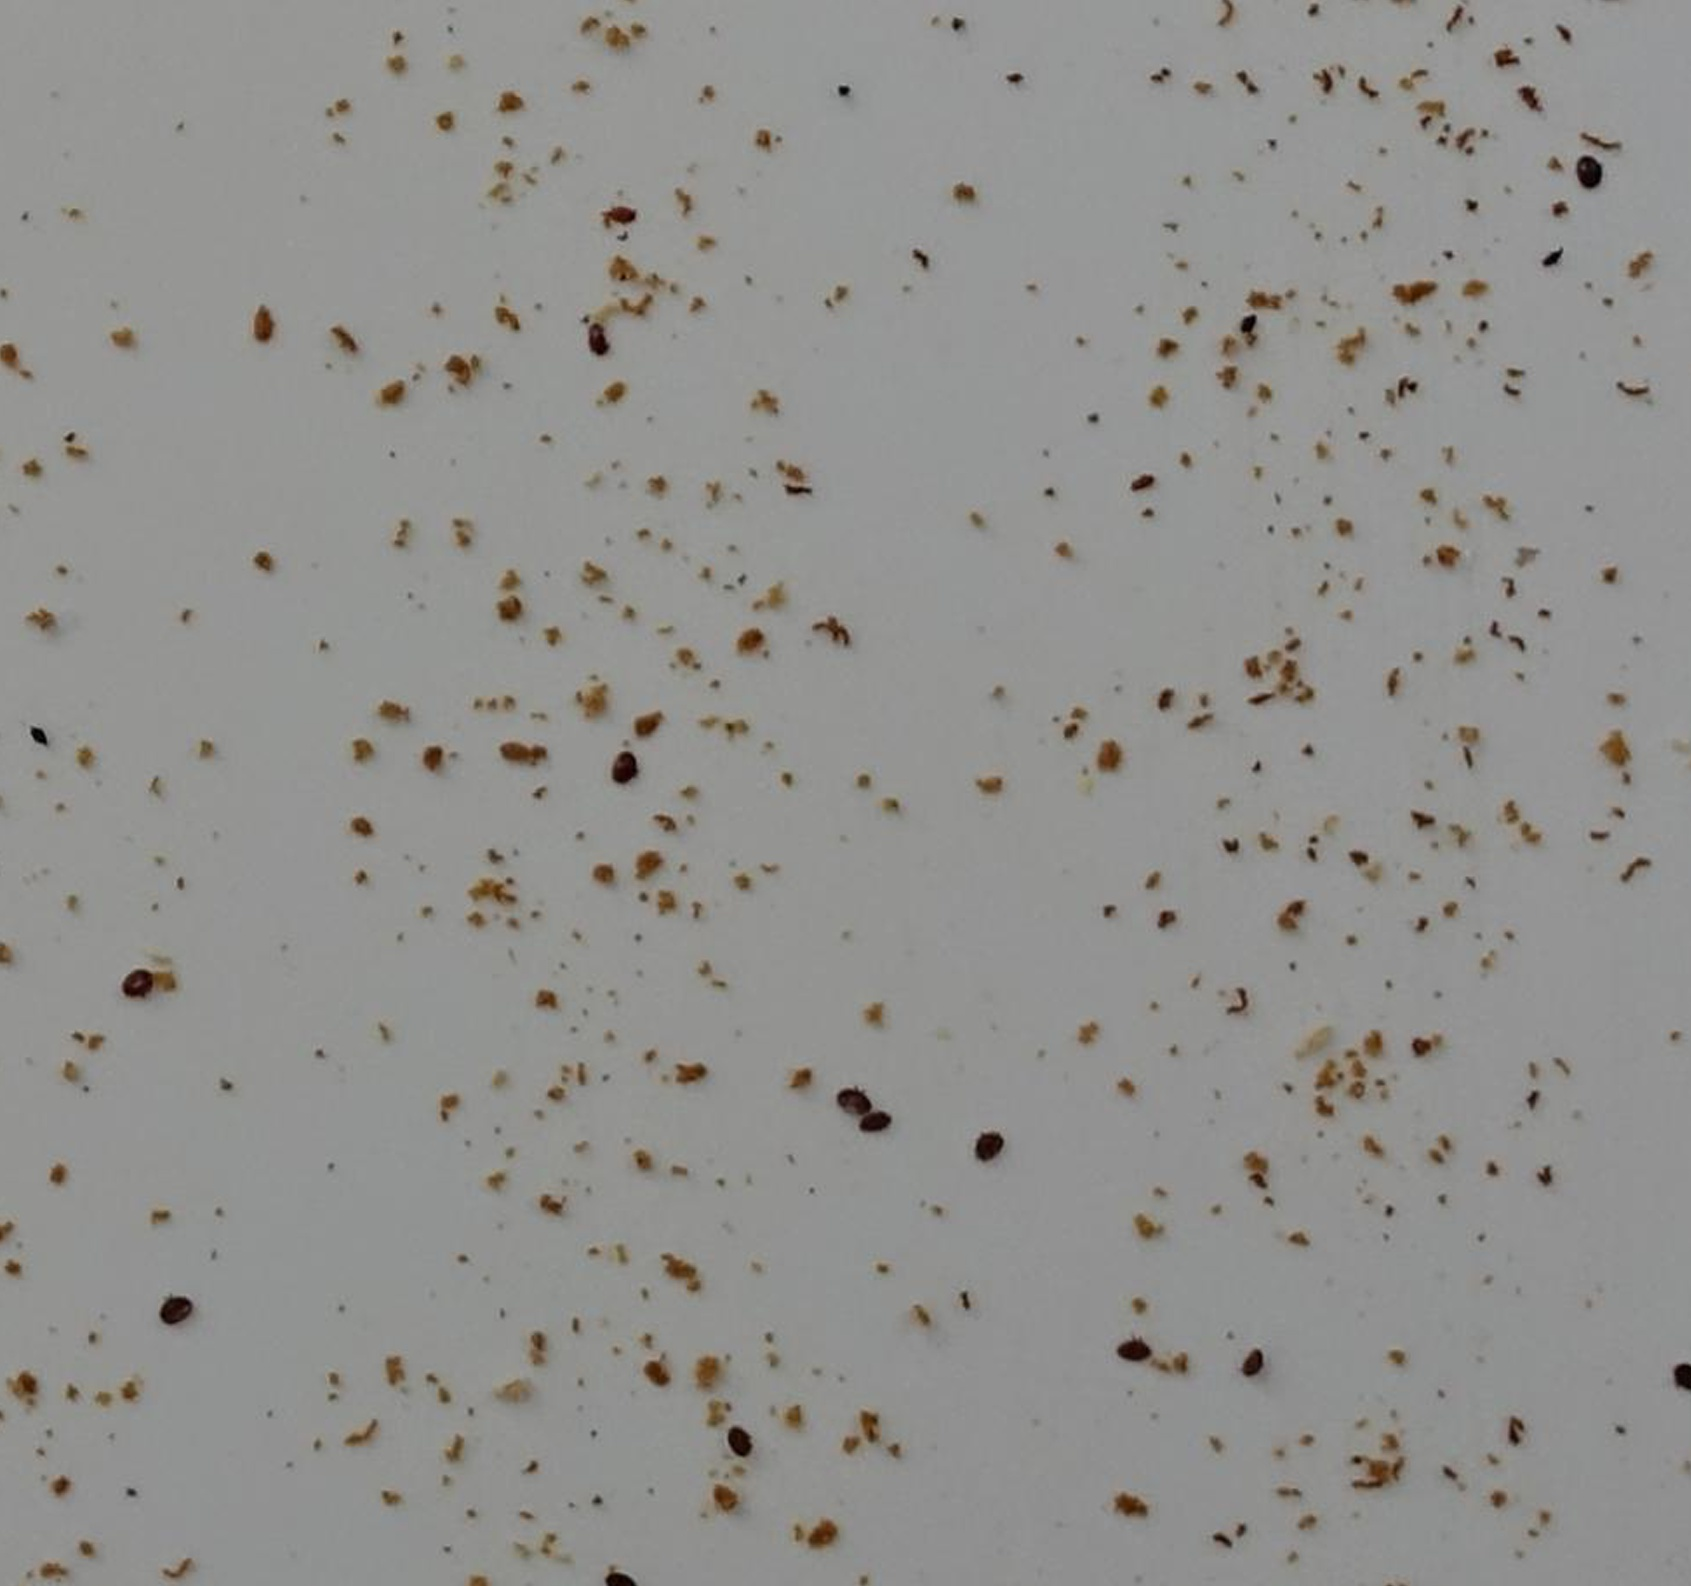Varroa: (576, 316, 620, 361), (1575, 149, 1607, 180), (835, 1090, 866, 1121), (163, 1295, 192, 1327), (605, 751, 634, 783), (122, 967, 151, 996), (856, 1105, 884, 1133), (974, 1136, 1001, 1164), (1120, 1336, 1147, 1362), (725, 1429, 749, 1453), (1233, 1358, 1257, 1382)
